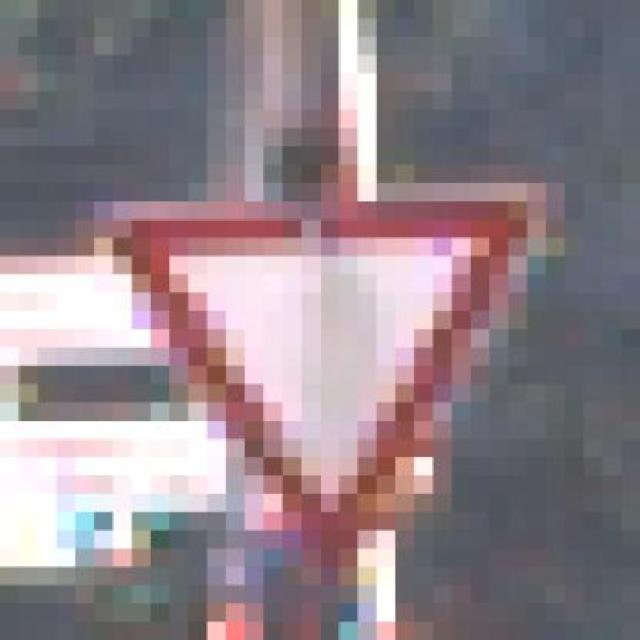Give Way: (114, 134, 548, 628)
